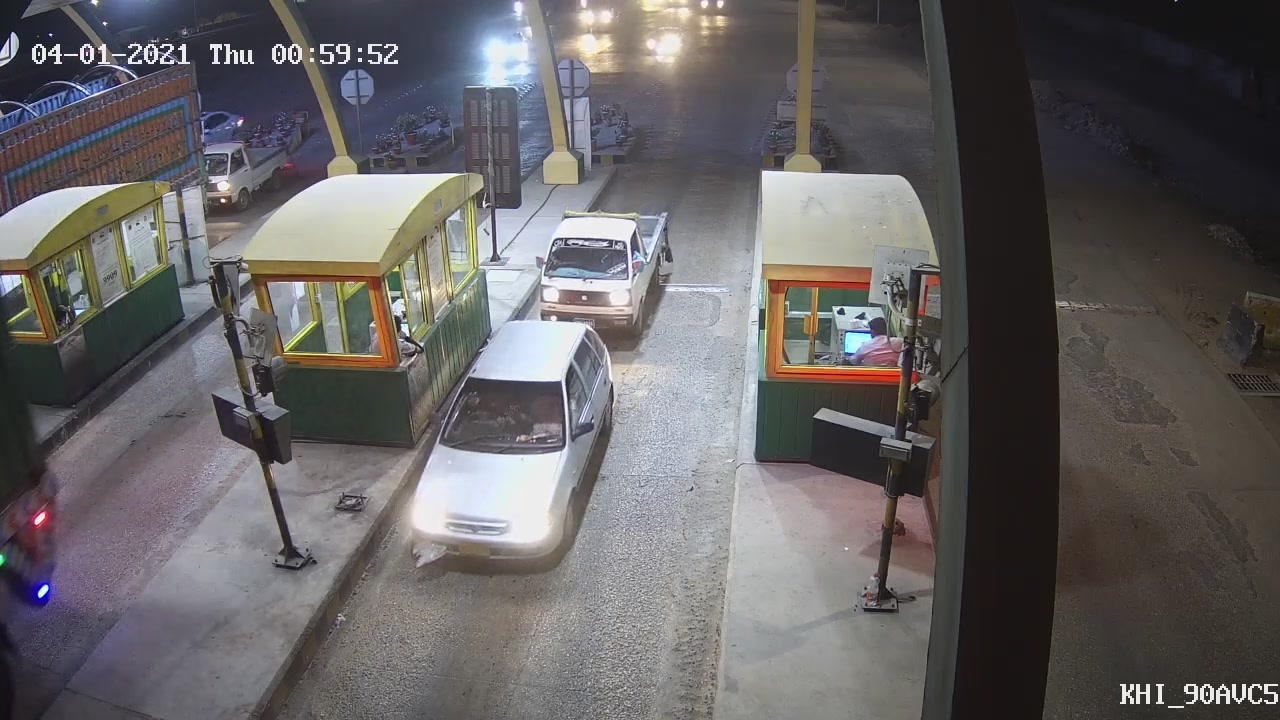F1: (406, 316, 616, 582), (527, 203, 684, 334)
